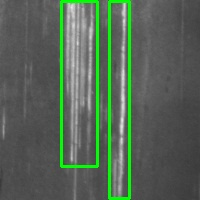scratches: (61, 1, 97, 166), (109, 1, 129, 198)
